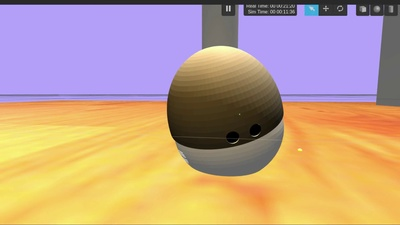mira_robot: (168, 45, 285, 177)
